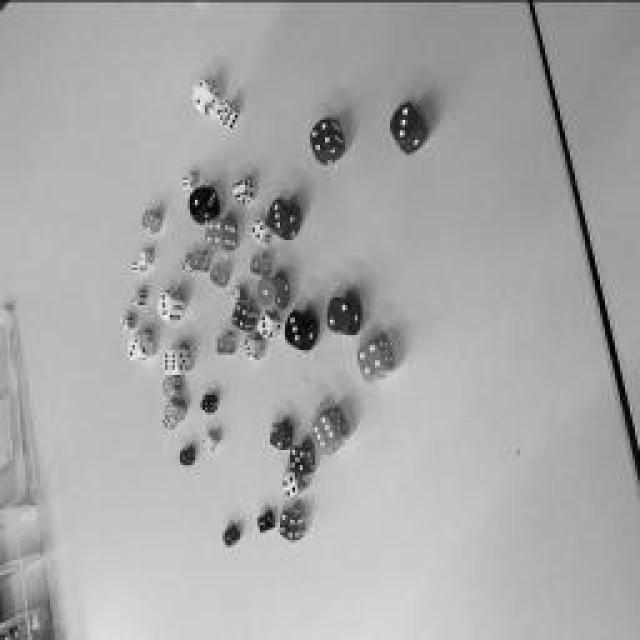dice_1: (260, 278, 275, 308), (190, 190, 205, 215), (259, 515, 269, 530), (180, 450, 188, 465), (225, 530, 233, 545), (140, 252, 145, 262)
dice_2: (330, 298, 350, 328), (192, 79, 208, 106), (271, 424, 284, 448), (162, 380, 172, 395), (166, 401, 174, 419), (231, 288, 239, 302)
dice_3: (392, 102, 418, 140), (269, 199, 286, 231), (287, 312, 305, 342), (259, 310, 271, 335), (159, 292, 171, 316), (130, 332, 140, 358), (244, 336, 254, 356), (202, 395, 210, 410), (192, 254, 200, 268), (132, 291, 140, 304), (122, 316, 128, 329)
dice_4: (358, 342, 382, 378), (311, 118, 331, 152), (206, 219, 222, 246), (280, 511, 295, 539), (232, 302, 248, 328), (282, 472, 298, 498), (250, 215, 265, 240), (211, 262, 221, 282), (205, 434, 213, 448)
dice_5: (290, 448, 305, 472), (216, 99, 229, 121)
dice_6: (313, 412, 335, 448), (164, 349, 176, 371), (235, 178, 245, 198), (251, 255, 261, 275), (142, 211, 150, 229), (218, 338, 228, 352), (182, 255, 190, 270), (164, 414, 171, 428), (132, 259, 138, 271), (182, 175, 188, 187)
